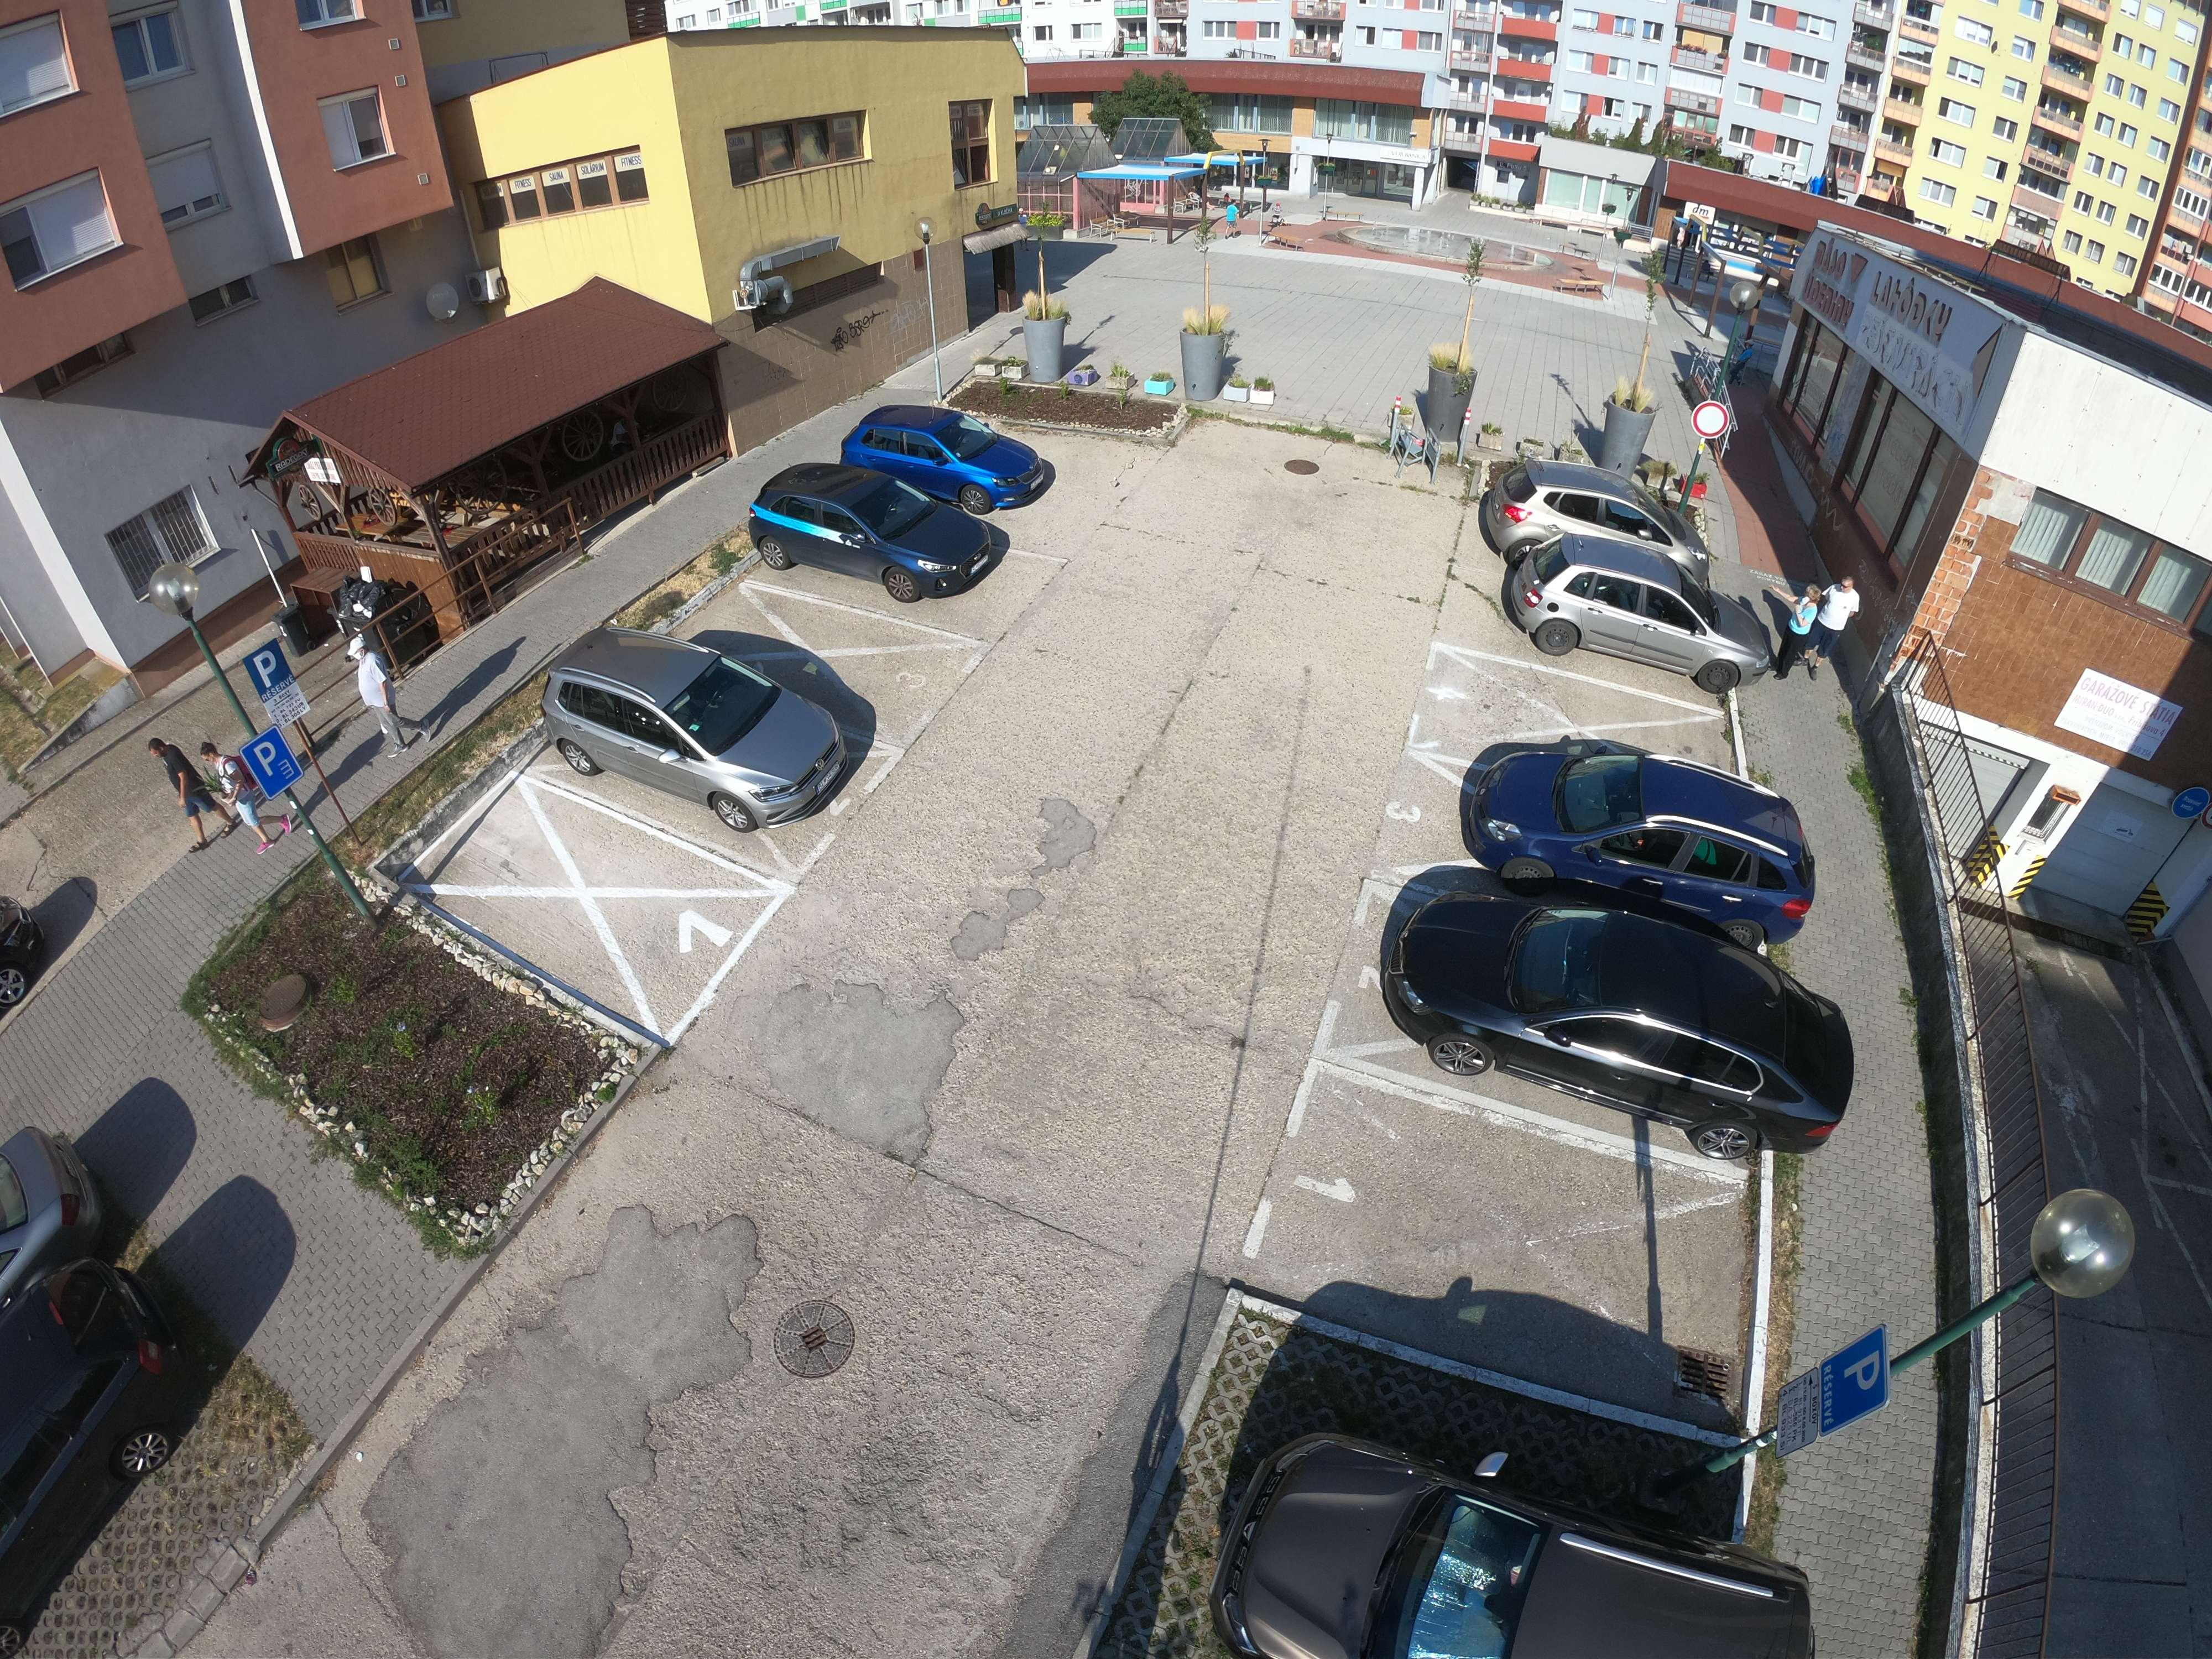empty: (1141, 1263, 1782, 1657), (1353, 882, 1836, 1115), (1446, 734, 1829, 925), (543, 631, 848, 819), (1498, 547, 1778, 678), (737, 462, 988, 601), (859, 406, 1050, 516), (1498, 464, 1714, 558)
occupied: (1336, 1180, 1639, 1314), (488, 835, 709, 967), (752, 579, 928, 692), (1519, 681, 1693, 763)
